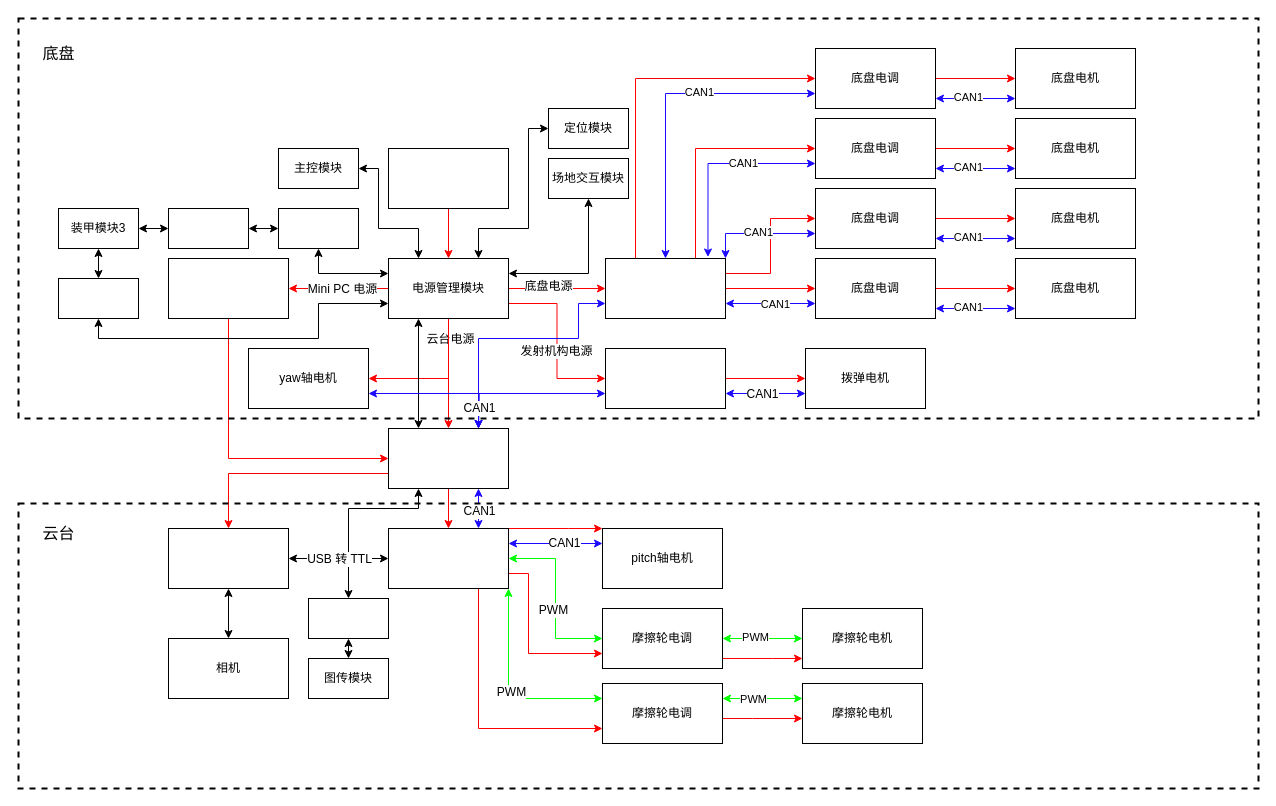
Some shapes in this 1276 by 806 pixel diagram are drawn without their labels. The shapes that lost their labels are listed below. From the top down, each one's box as (x1, y1, x2, y2) in pixels, then its label:
(388, 148, 508, 208): 电池
(168, 208, 248, 248): 装甲模块2
(278, 208, 358, 248): 装甲模块1
(58, 278, 138, 318): 装甲模块4
(168, 258, 288, 318): 降压模块
(604, 258, 726, 318): 底盘中心板
(604, 348, 726, 408): 拨弹电调
(388, 428, 508, 488): 导电滑环
(168, 528, 288, 588): Nano
(388, 528, 508, 588): C板
(308, 598, 388, 638): 测速模块
